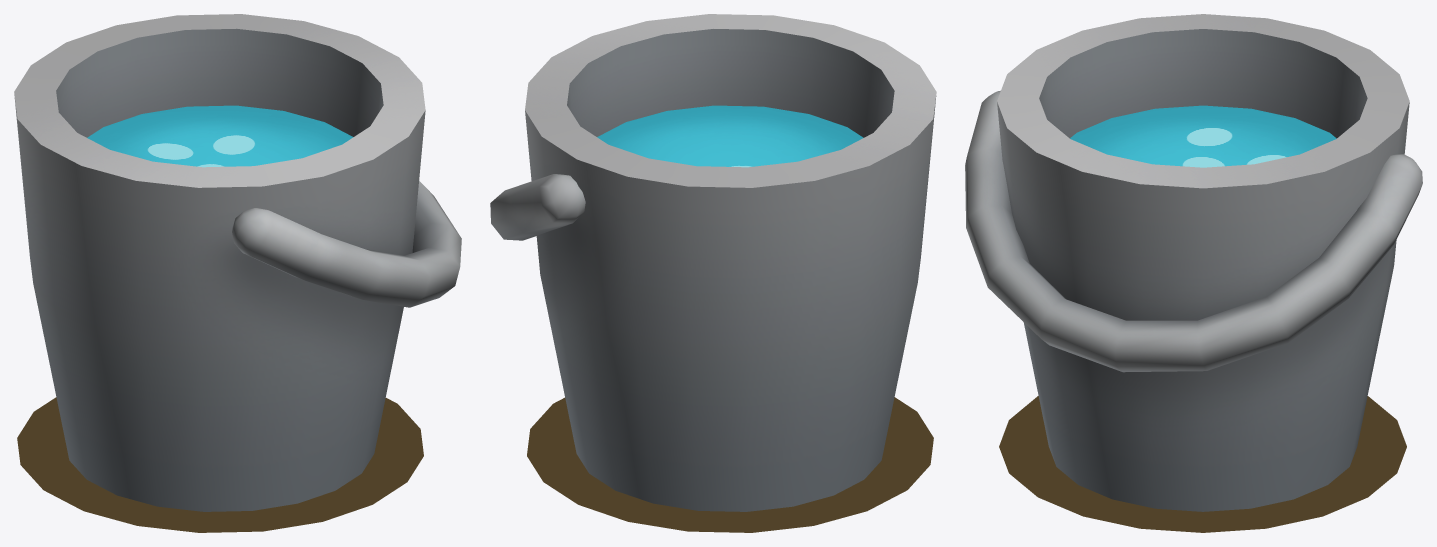
File: Mu_Bucket.fbx
3 renders of one model, left to right at view 1: azimuth 30°, elevation 25°; view 2: azimuth 150°, elevation 25°; view 3: azimuth 270°, elevation 25°, orthographic.
Parts seen in each view (by area): view 1: Mu_Bucket_a, Mu_Bucket_shadow, Mu_Bucket_b; view 2: Mu_Bucket_a, Mu_Bucket_shadow, Mu_Bucket_b; view 3: Mu_Bucket_a, Mu_Bucket_shadow, Mu_Bucket_b.
Boxes of the visible parts, x1,y1,x2,y2 form: Mu_Bucket_a: (14,14,461,511); Mu_Bucket_shadow: (17,397,423,532); Mu_Bucket_b: (87,105,353,167); Mu_Bucket_a: (490,14,936,511); Mu_Bucket_shadow: (527,397,933,532); Mu_Bucket_b: (597,105,863,167); Mu_Bucket_a: (965,14,1422,511); Mu_Bucket_shadow: (999,396,1406,532); Mu_Bucket_b: (1070,105,1336,167).
Bounding box in the file's own units: 103 × 87.93 × 105.
2 materials, 1 textured.
